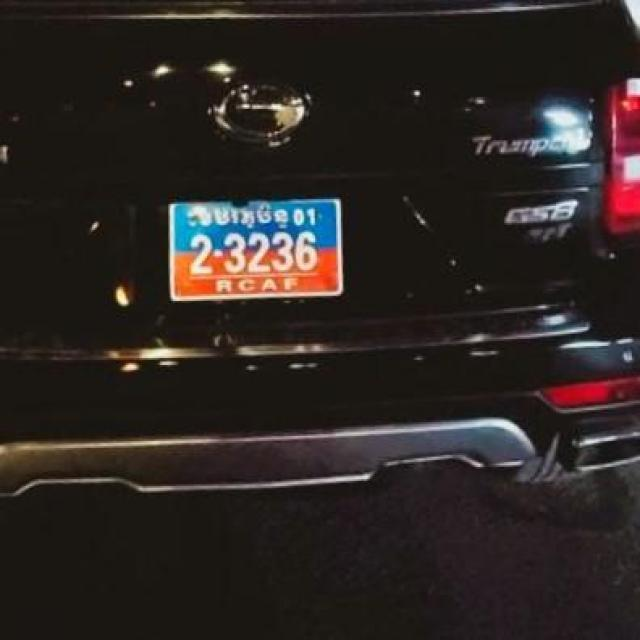RCAF: (186, 201, 290, 230)
